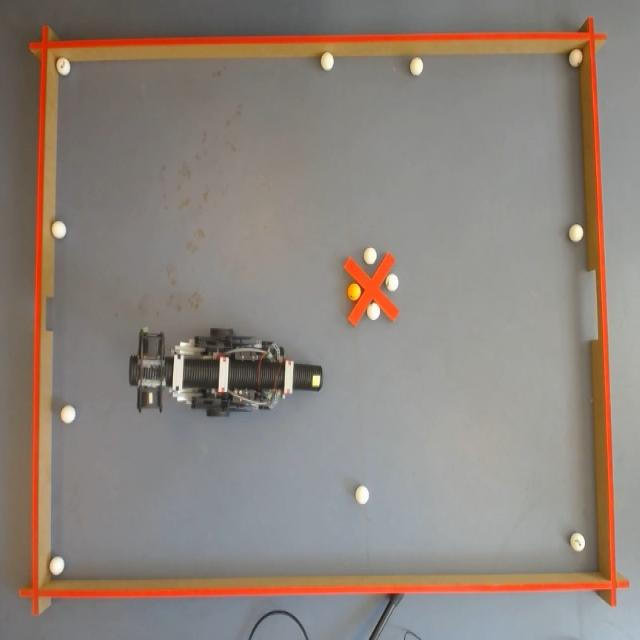orange-golf-balls: (348, 284, 361, 301)
robot: (129, 327, 323, 419)
robot-front: (294, 364, 323, 390)
white-golf-balls: (570, 534, 585, 552), (356, 486, 370, 505), (50, 556, 64, 575), (61, 406, 76, 423), (52, 220, 66, 238), (569, 49, 583, 67), (570, 224, 584, 242), (366, 303, 380, 320), (321, 52, 334, 70), (364, 247, 377, 265), (57, 58, 70, 75), (411, 58, 423, 76), (386, 274, 398, 291)
